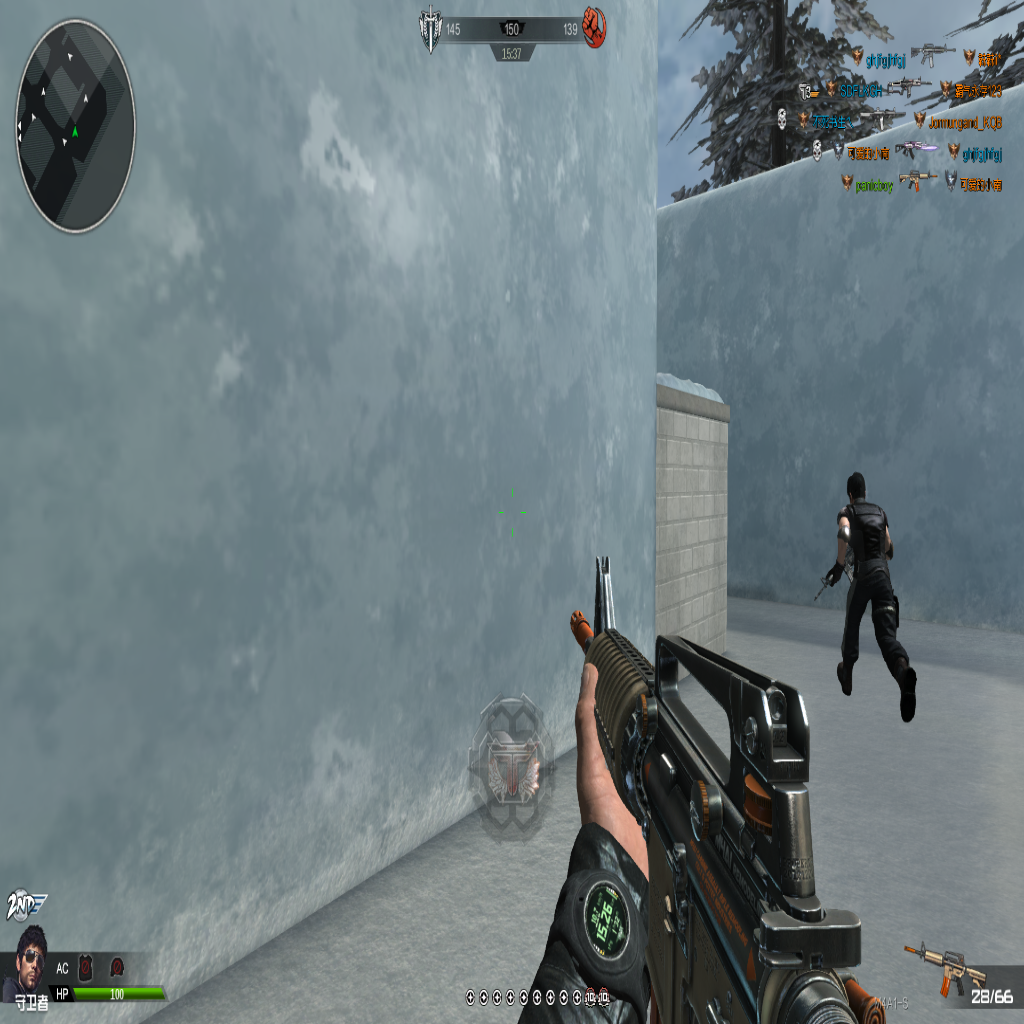ct: (828, 475, 907, 706)
